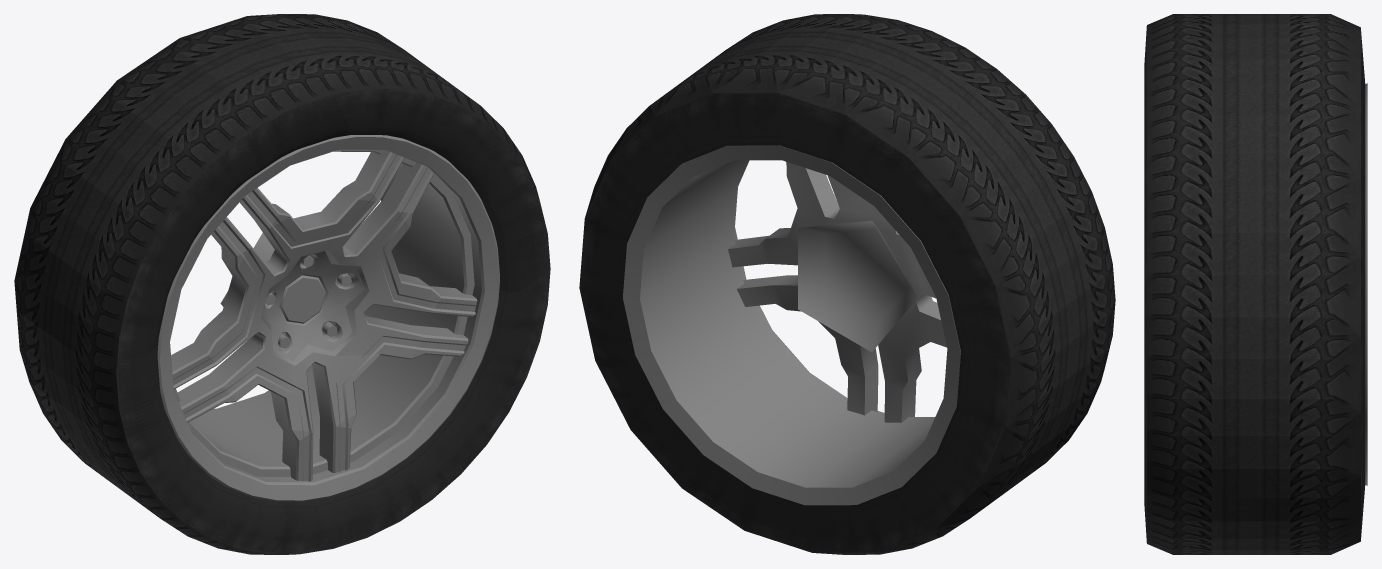
File: furnariscafatigtwheel.glb
3 views of the same model, side by side, from view 1: azimuth 30°, elevation 25°; view 2: azimuth 150°, elevation 25°; view 3: azimuth 270°, elevation 25° (orthographic). The views are drawn at different scales.
Parts seen in each view (by area): view 1: wheel; view 2: wheel; view 3: wheel.
Boxes of the visible parts, box(x1,y1,x2,y2) form: wheel: box(14, 14, 550, 554); wheel: box(579, 14, 1115, 554); wheel: box(1144, 14, 1367, 554).
Size of the model in its own units: 0.8138 by 0.8139 by 0.3358.
Materials: 2 (2 with a texture image).
